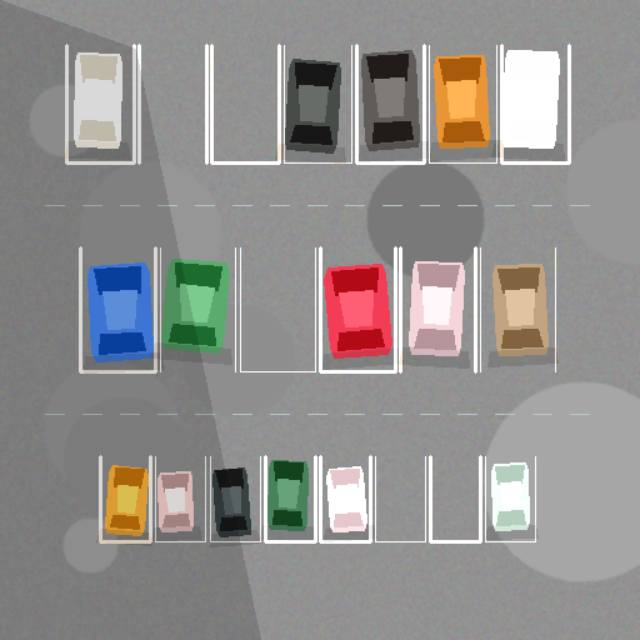space-empty: (240, 247, 315, 371), (211, 45, 279, 162), (139, 45, 206, 162), (375, 456, 425, 541), (430, 456, 480, 541)
space-occupied: (80, 247, 155, 371), (160, 247, 235, 371), (320, 247, 395, 371), (400, 247, 475, 371), (480, 247, 555, 371), (66, 45, 134, 162), (356, 45, 424, 162), (501, 45, 569, 162), (284, 45, 351, 162), (429, 45, 496, 162), (100, 456, 150, 541), (155, 456, 205, 541), (210, 456, 260, 541), (265, 456, 315, 541), (320, 456, 370, 541), (485, 456, 535, 541)
